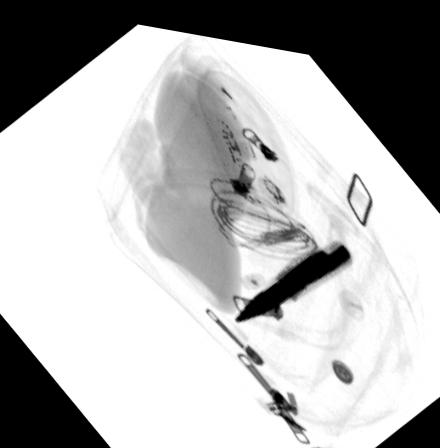Pliers: (232, 226, 355, 314)
